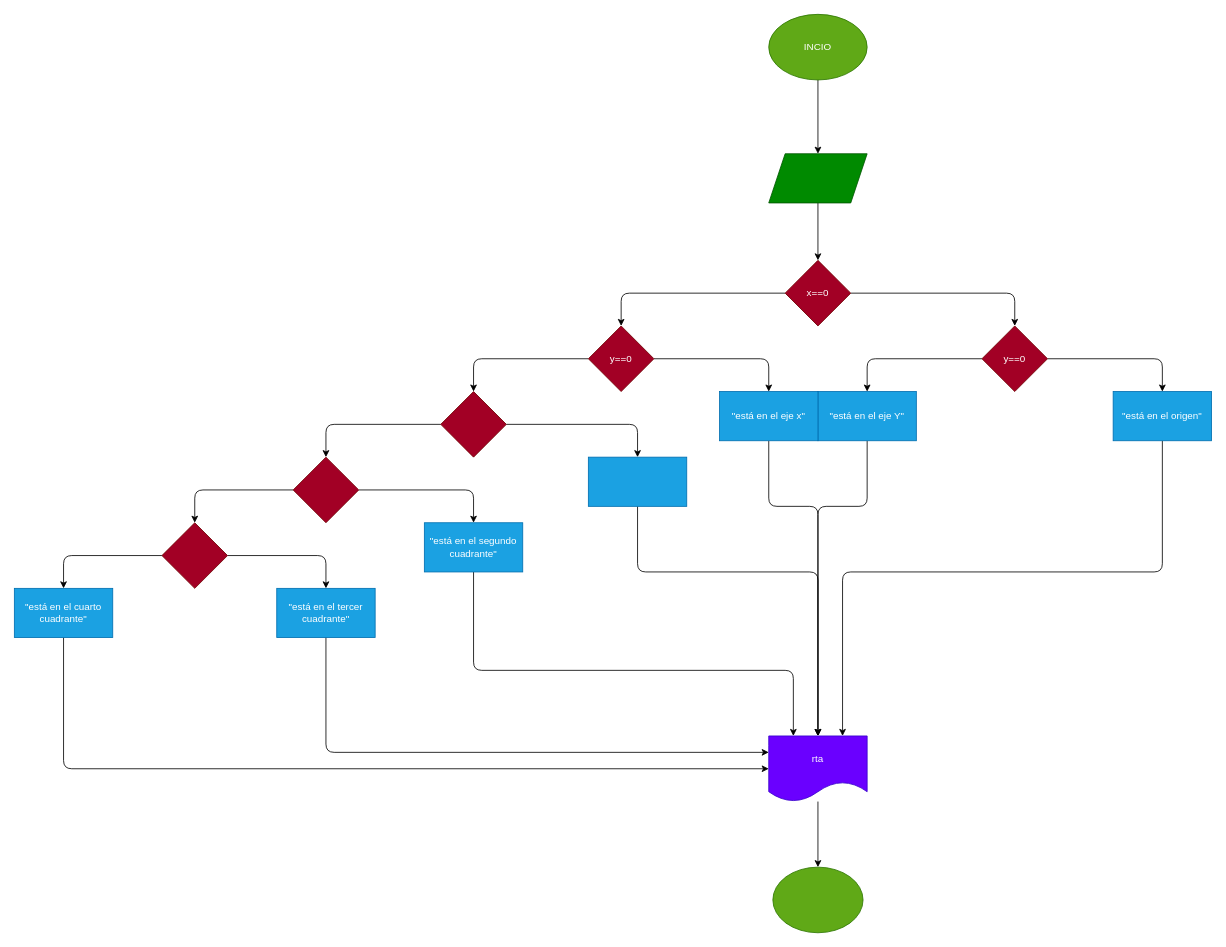
The diagram is 1226 pixels wide and 947 high, and some of its shapes have lost their labels. The box of each missing label's shape, as (x1, y1, x2, y2) in pixels:
"está en el primer cuadrante": (588, 456, 687, 506)
FIN: (772, 866, 863, 933)
x,y: (768, 153, 867, 203)
x<0 and y<0: (161, 522, 228, 588)
x<0 and y>0: (292, 456, 359, 523)
x>0 and y>0: (440, 391, 506, 457)
